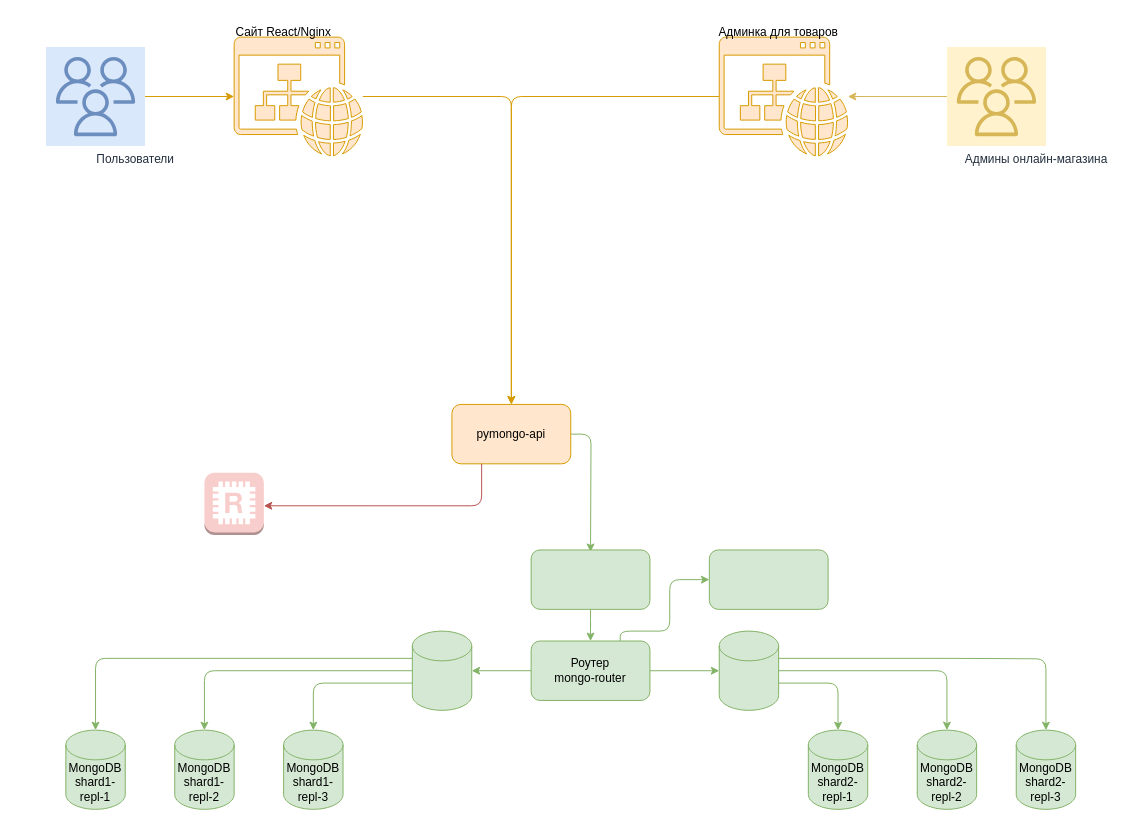
This 1124x827 diagram has some shape labels left out. The shapes that lost their labels are listed below. From the top down, each one's box as (x1, y1, x2, y2) in pixels, then its label:
(203, 472, 264, 535): Redis
(530, 549, 650, 609): Драйвер
(708, 549, 828, 609): Конфигурационный сервер mongo-config
(411, 630, 472, 710): MongoDB shard1
(718, 630, 779, 710): MongoDB shard2
